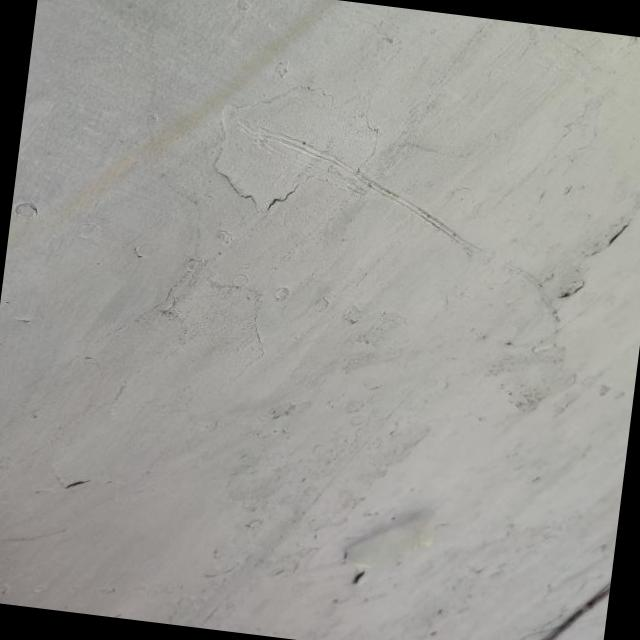Paint-off: (342, 510, 430, 584)
Scratch: (215, 106, 483, 254)
